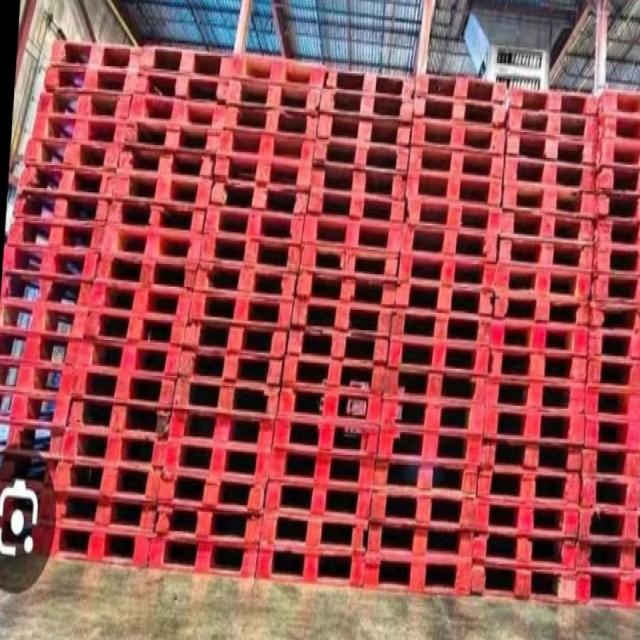non-igps: (0, 33, 640, 622)
